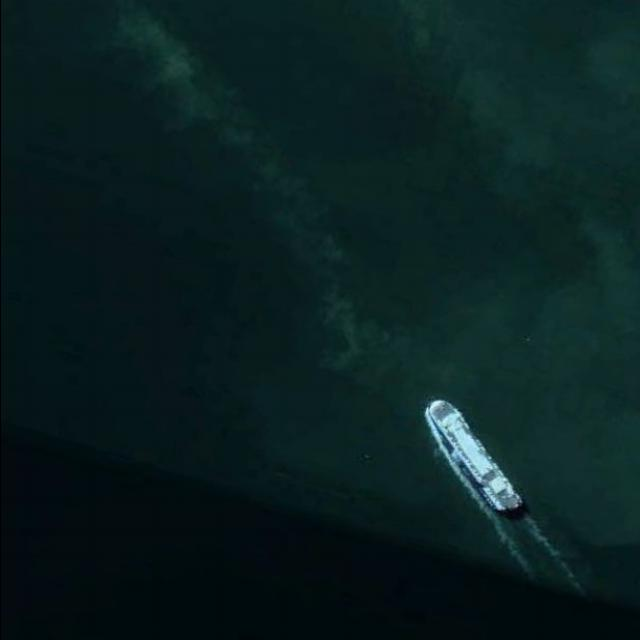ship: (423, 398, 530, 514)
